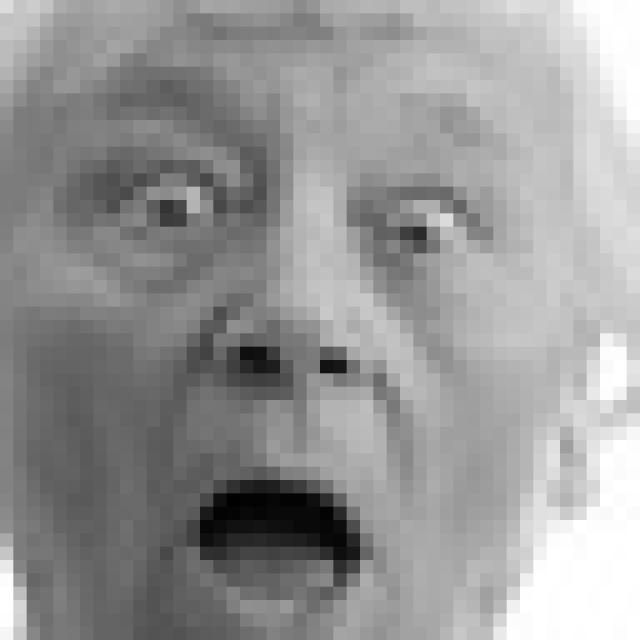surprise: (67, 71, 523, 640)
